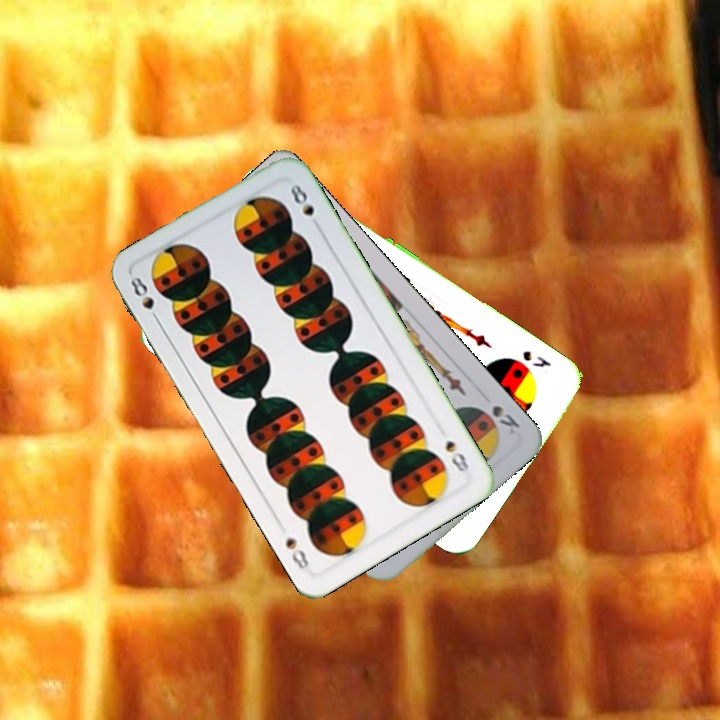S8: (123, 272, 163, 327), (441, 436, 472, 475)
SK: (487, 401, 523, 437), (518, 346, 554, 371)
